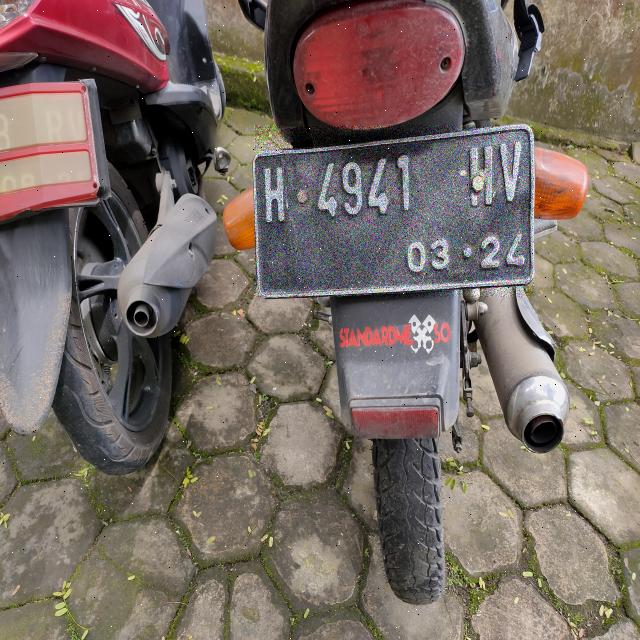plate: (254, 126, 533, 296)
